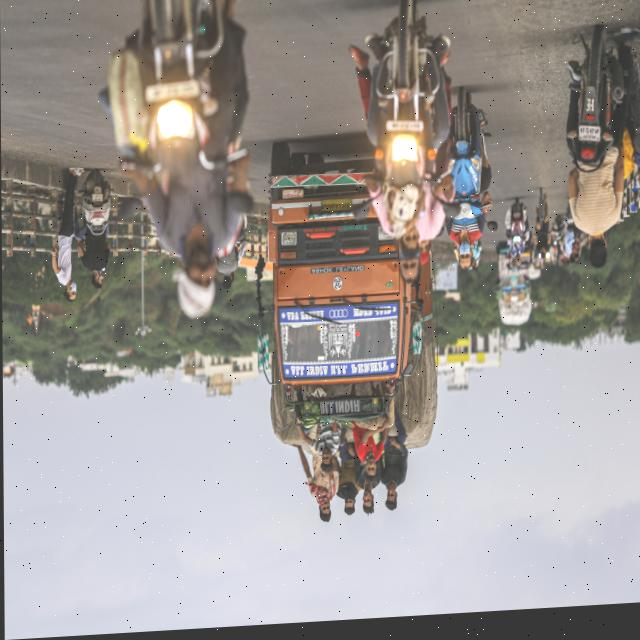plate: (143, 77, 201, 110), (383, 119, 425, 143), (318, 200, 354, 221), (575, 127, 603, 153), (90, 193, 104, 204)
